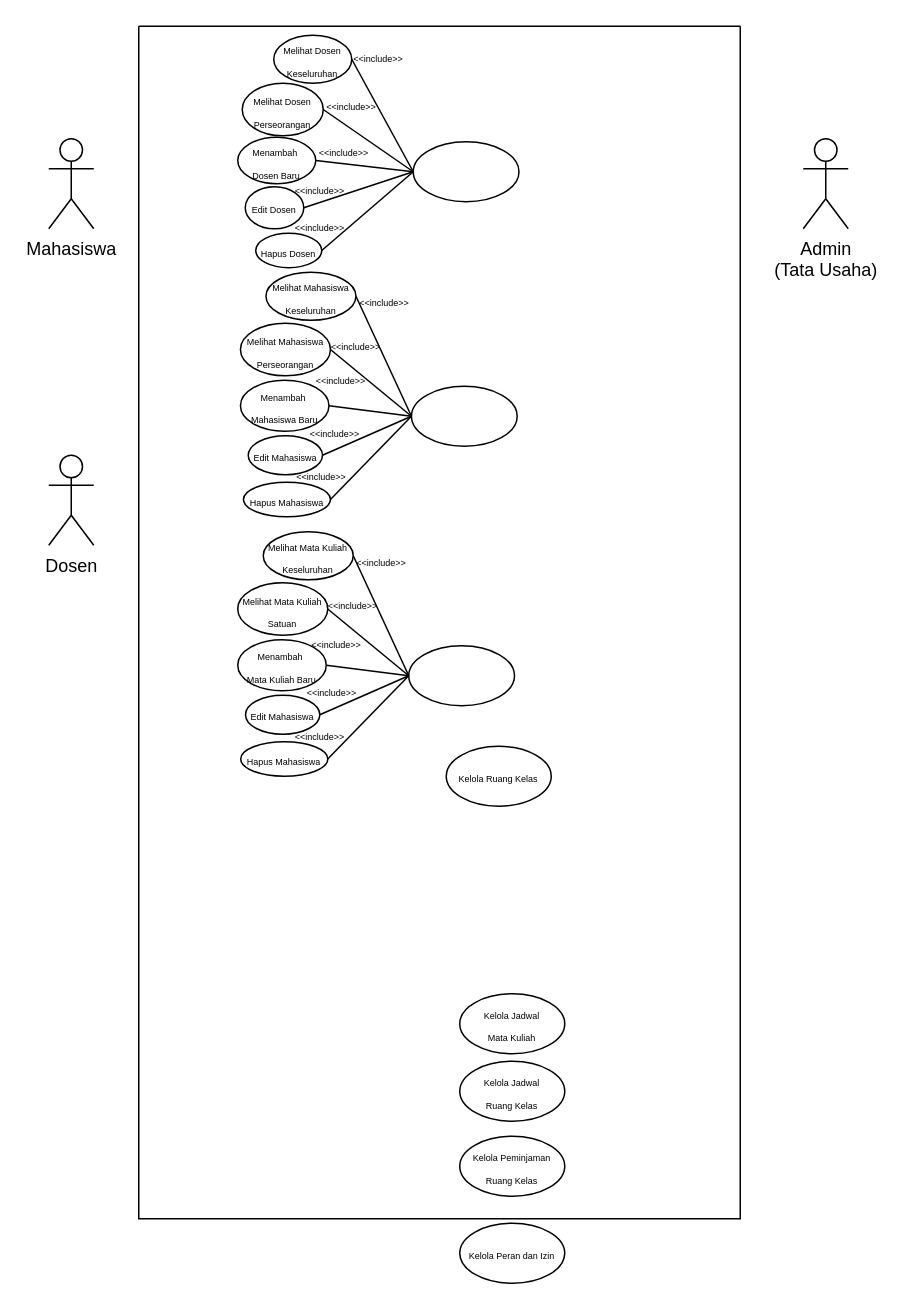
This 903x1310 diagram has some shape labels left out. Here are the shapes that lost their labels. From the top down, the box of each, then its label:
(412, 140, 519, 202): Kelola Dosen
(410, 385, 517, 446): Kelola Mahasiswa
(407, 644, 514, 706): Kelola Mata Kuliah
